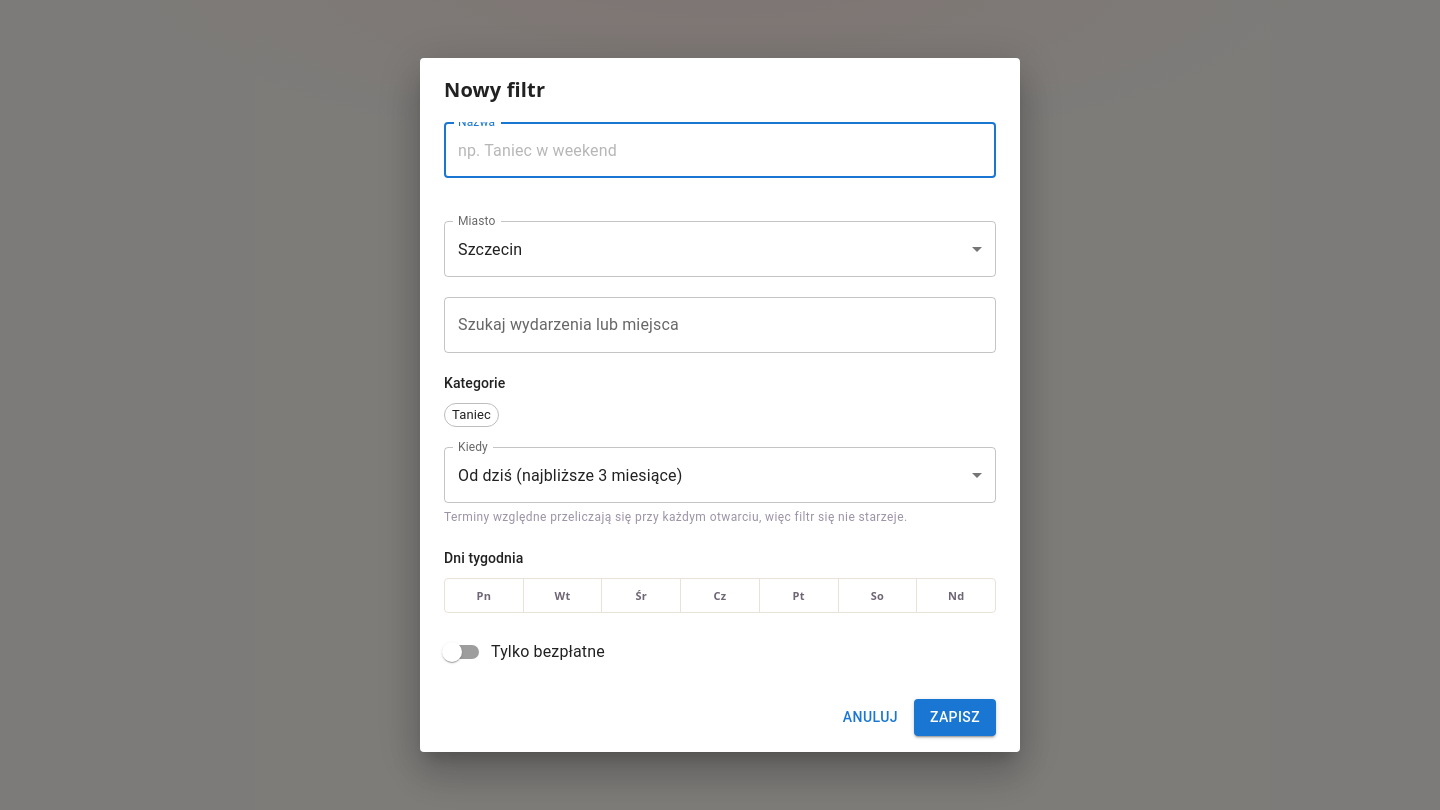
Scenario: PresetEditorDialog required-field feedback › does not save and lists what is missing next to the button
Step 1. Click the button "Zapisz" → [955, 718], box [914, 699, 996, 736]
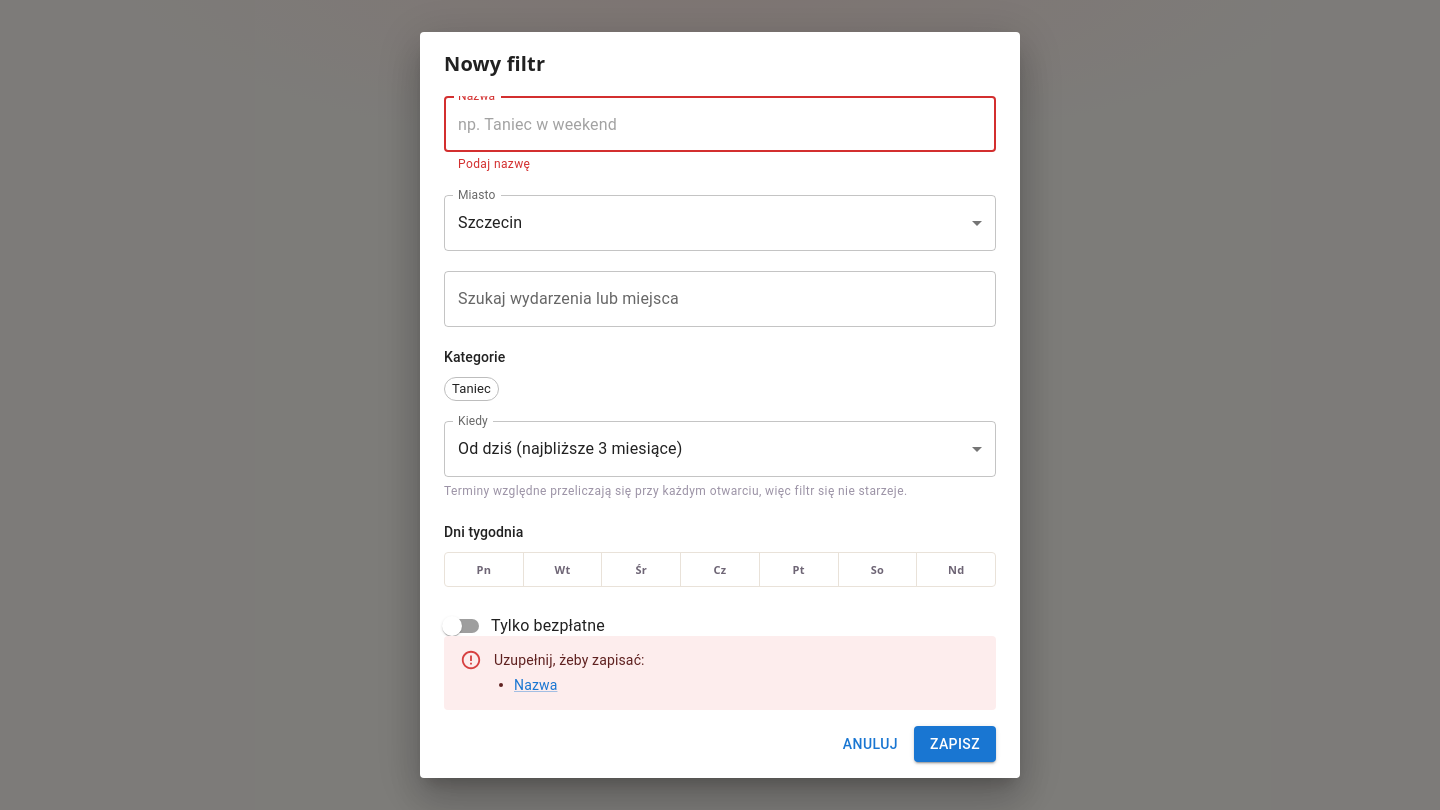
Result: the message shows "Uzupełnij, żeby zapisać:" at [494, 652, 645, 668]
Result: the message shows "Nazwa" at [514, 676, 557, 696]
